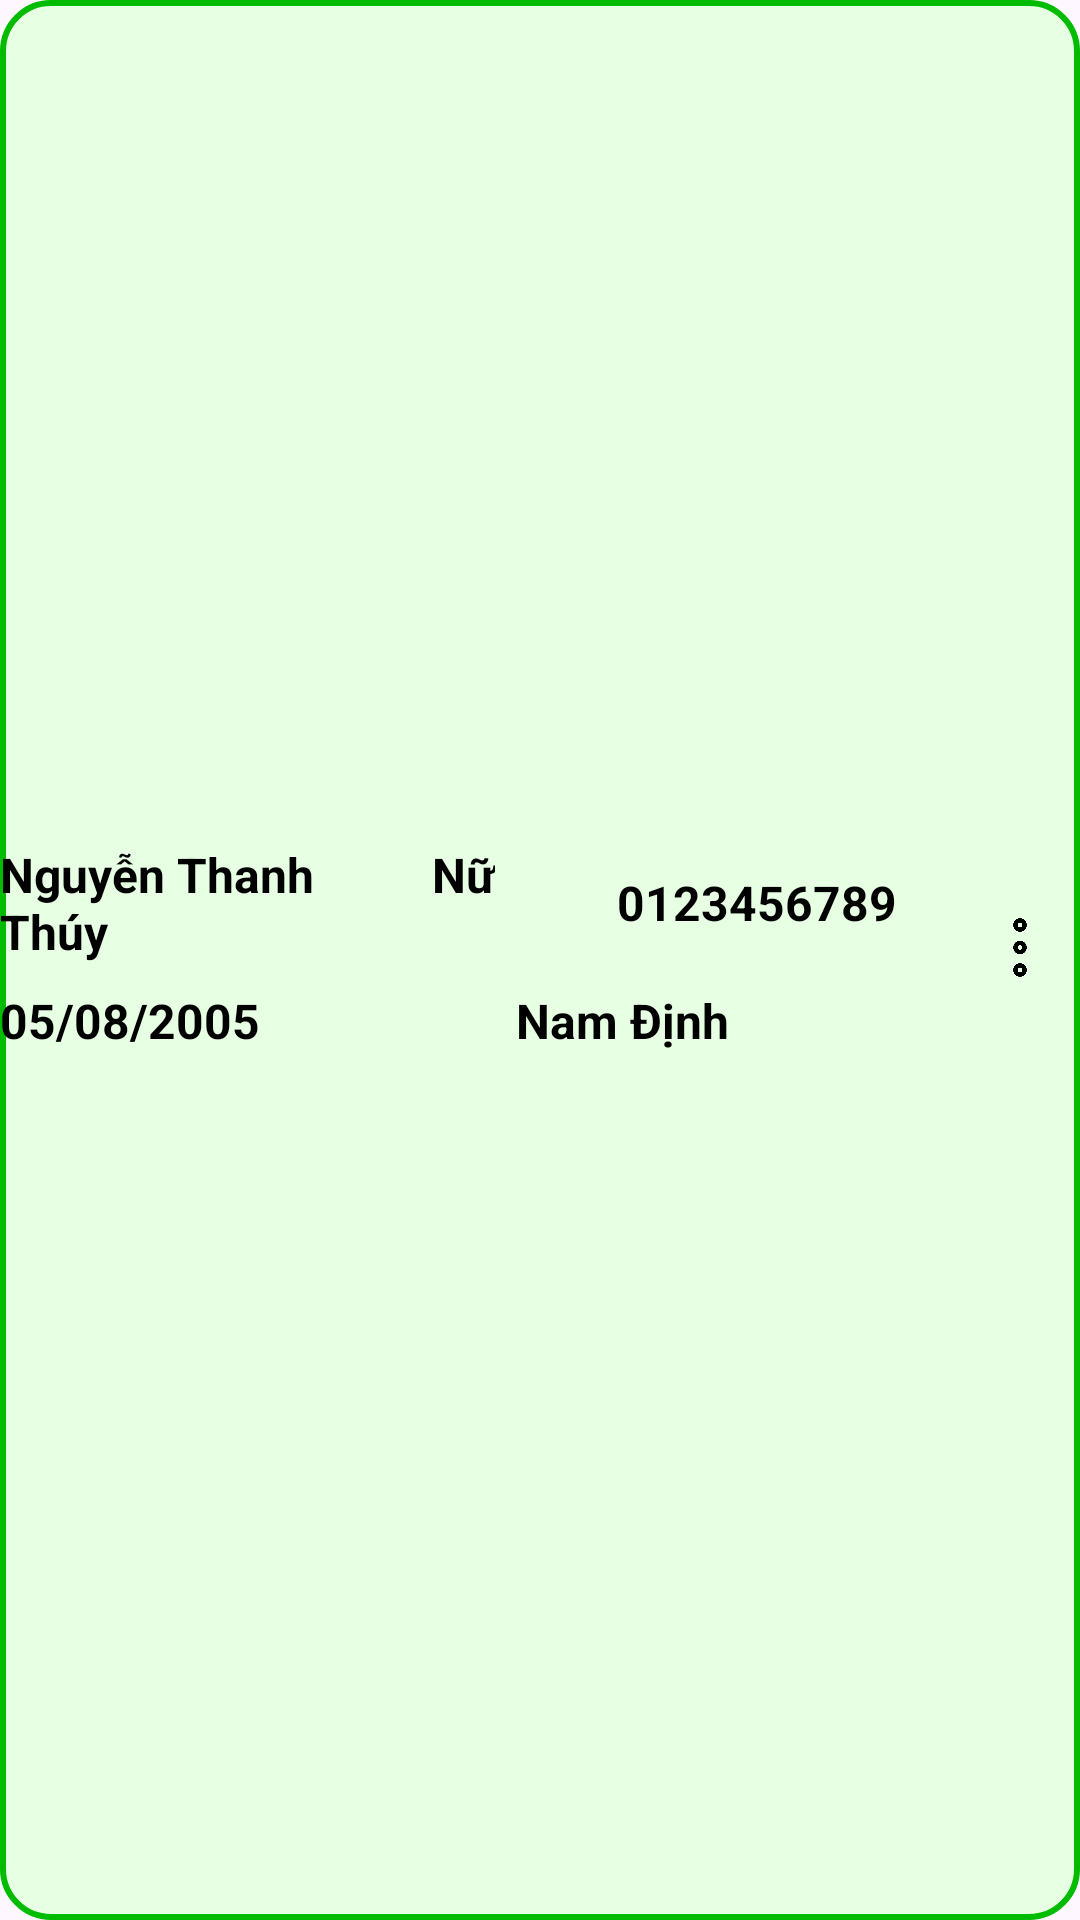

Where icons sit on this 1080 × 1920 app screen, as [left=x1, top=y1, right=x2, bottom=y2]:
threedot: [left=1013, top=918, right=1027, bottom=977]
